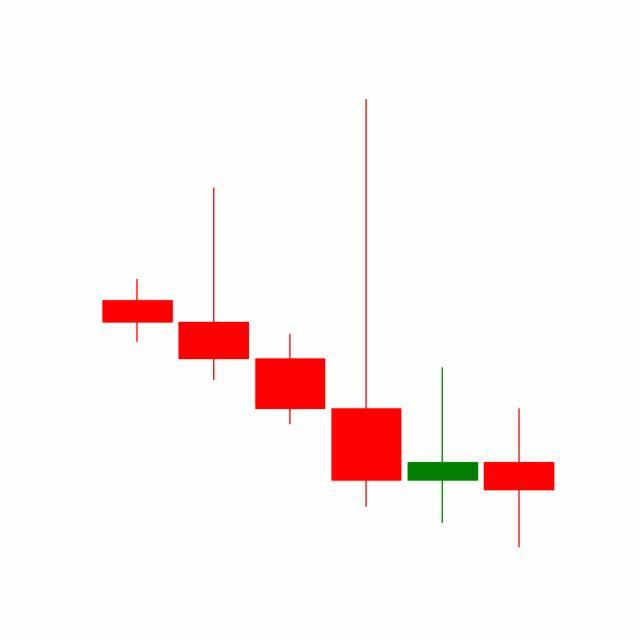Spinning Top: (404, 367, 482, 527)
